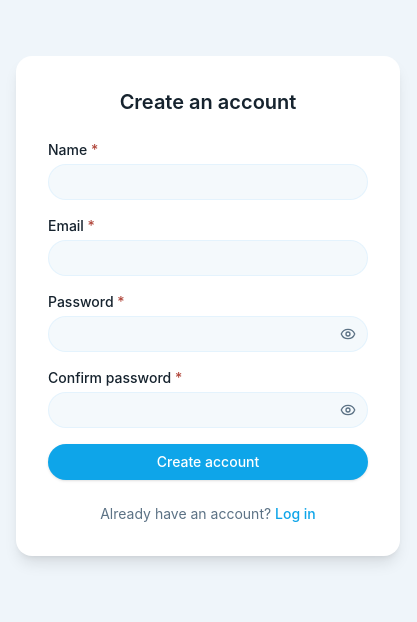
it: Register › shows a validation error under each empty required field when submitted
Click the button "Create account": (208, 462) x1=48 y1=444 x2=368 y2=480
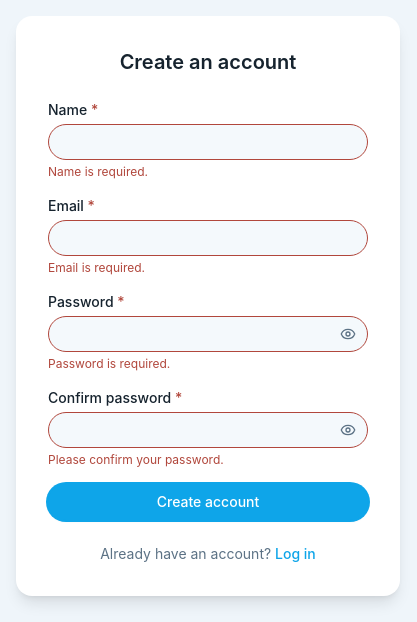
Now the text "Name is required." is shown, box x1=48 y1=164 x2=148 y2=179
Now the text "Email is required." is shown, box x1=48 y1=260 x2=145 y2=275
Now the text "Password is required." is shown, box x1=48 y1=356 x2=170 y2=371
